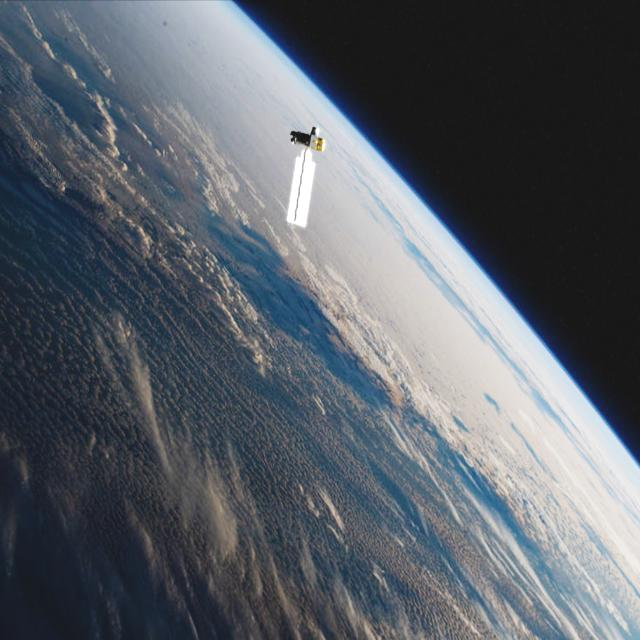satellite: (277, 120, 337, 234)
